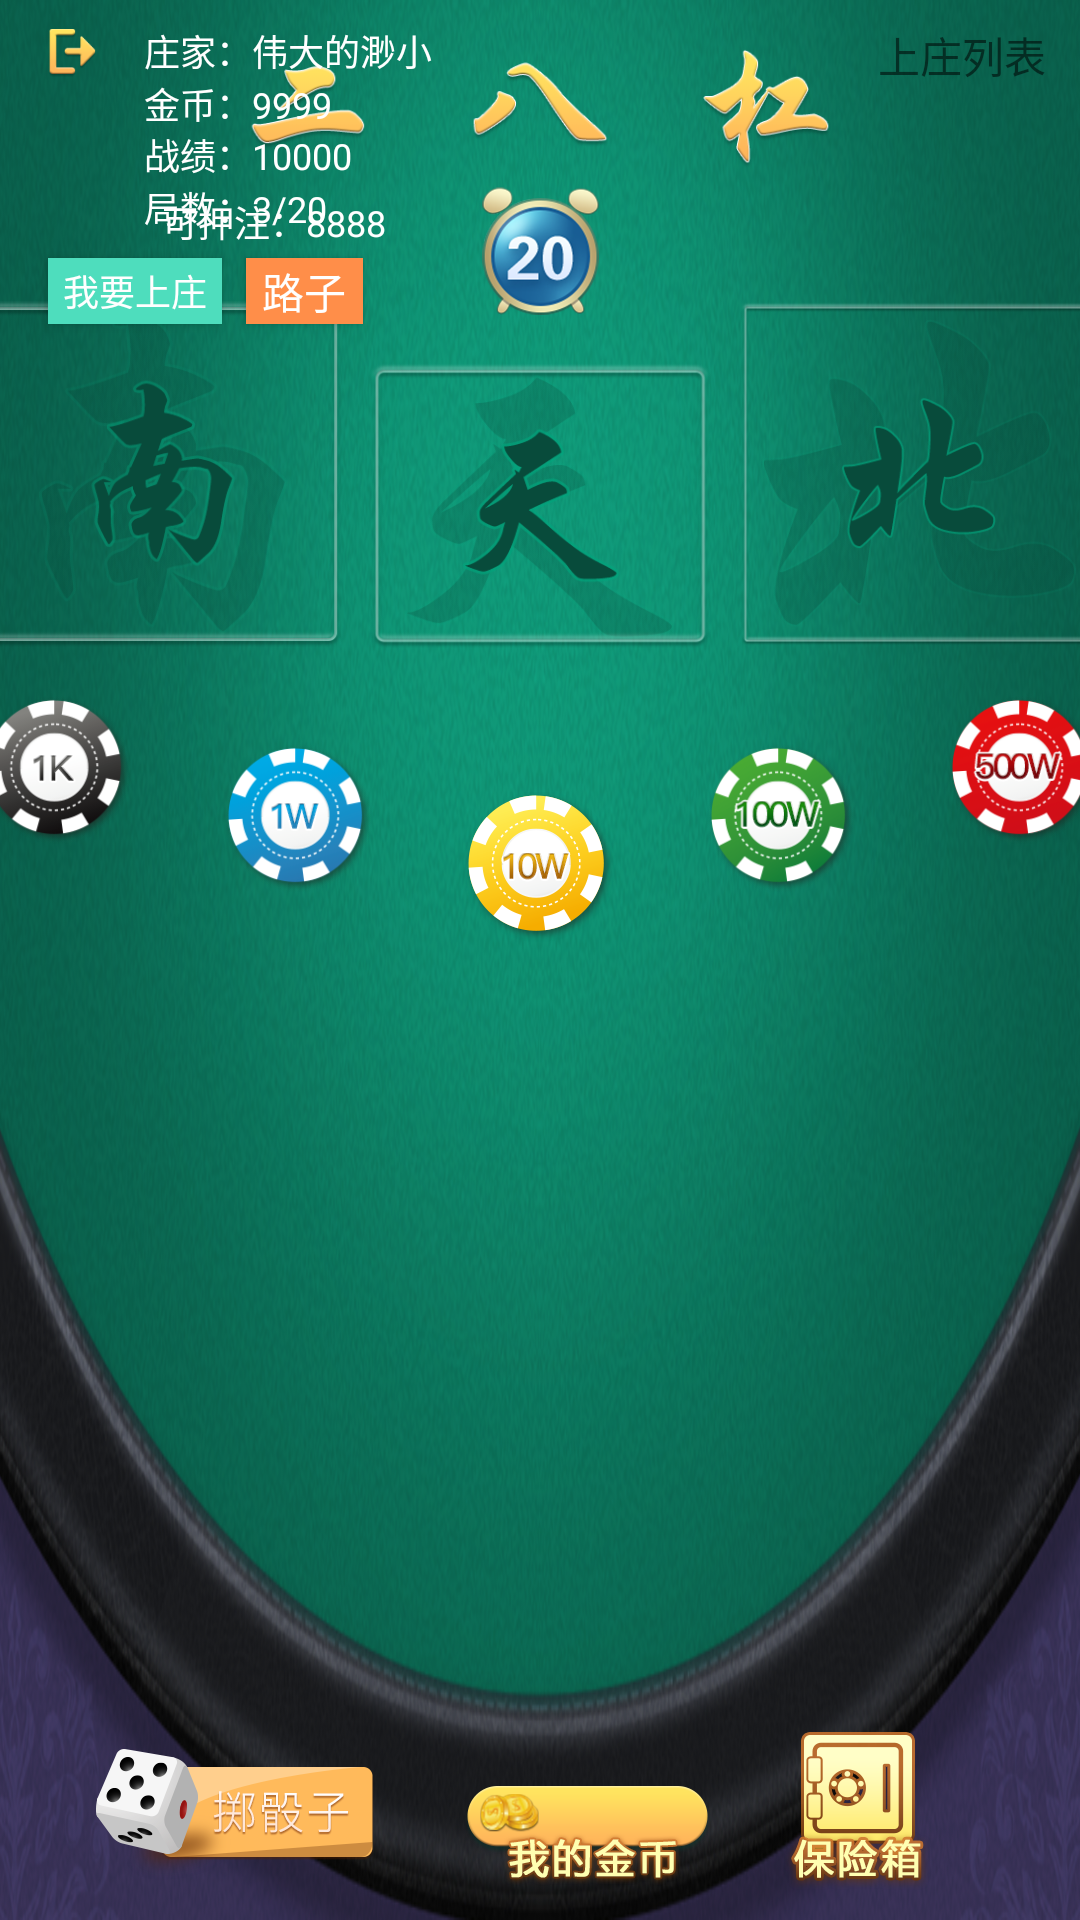

Icon click points for this 1080*1920 phone screenshot, format (x=x, y=y):
daojishi: (x=540, y=251)
signout: (x=72, y=52)
